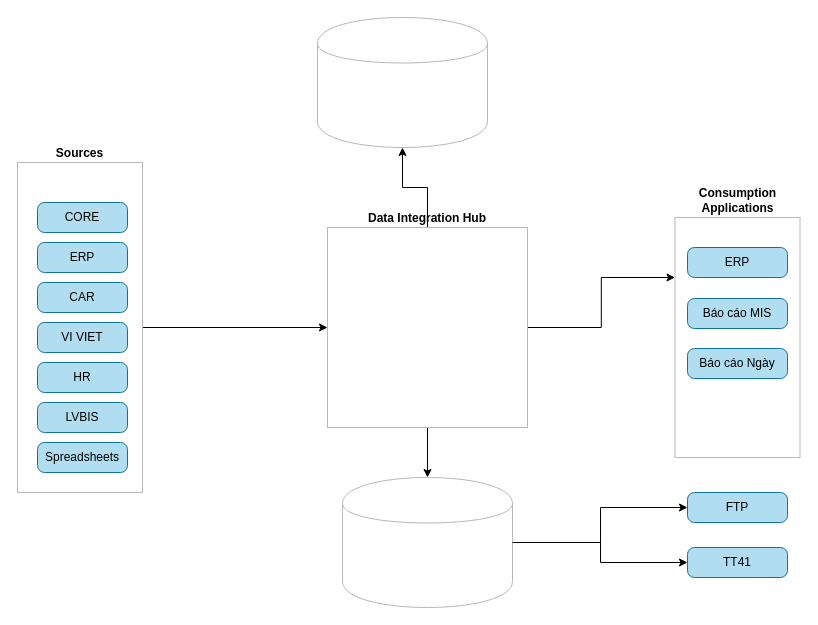
The diagram is 818 pixels wide and 625 high, and some of its shapes have lost their labels. The shapes that lost their labels are listed below. From the top down, each one's centre as x and y in pixels, then its label:
At pixel 402 82: "ODS".
At pixel 427 542: "Data Warehouse".
